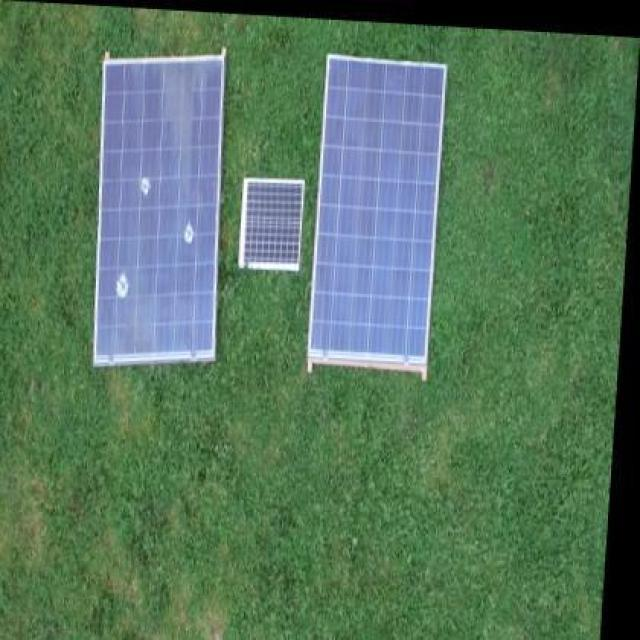soiled: (92, 52, 220, 369)
